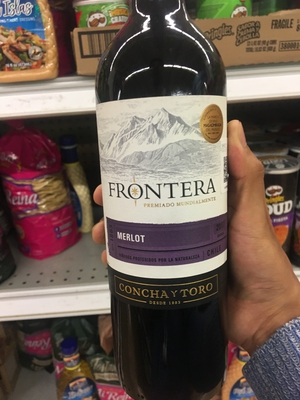frontera merlot: (86, 8, 238, 383)
